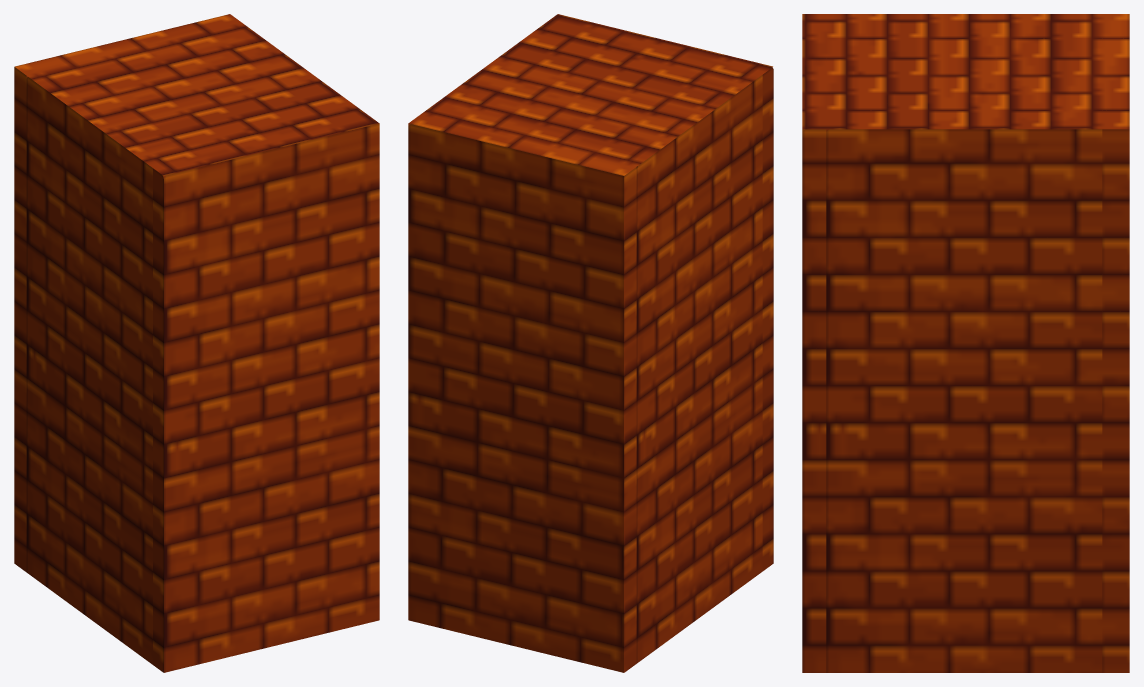
Rendered from Edificacion.fbx.
3 views of the same model, side by side, from view 1: azimuth 30°, elevation 25°; view 2: azimuth 150°, elevation 25°; view 3: azimuth 270°, elevation 25° (orthographic). The views are drawn at different scales.
Visible parts, largest first — view 1: cube; view 2: cube; view 3: cube.
Boxes of the visible parts, x1,y1,x2,y2 form: cube: [14, 14, 379, 672]; cube: [408, 14, 773, 672]; cube: [802, 14, 1129, 672].
Size of the model in its own units: 125 by 275 by 150.
Materials: 1 (1 with a texture image).
